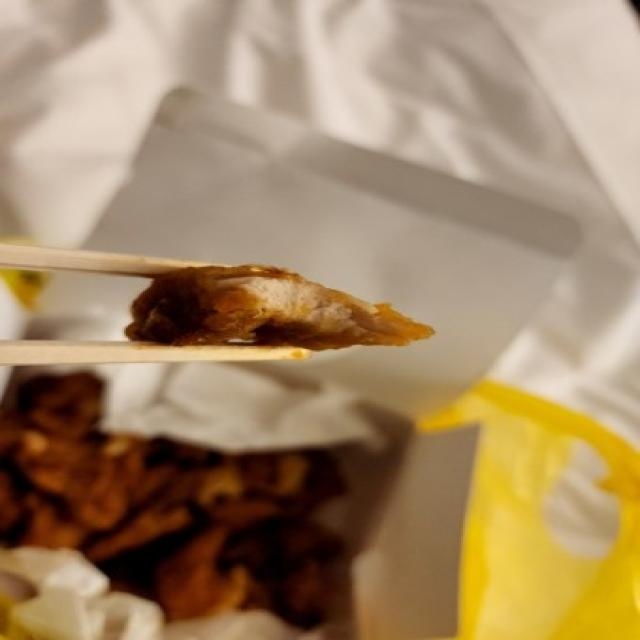Frango: (20, 362, 359, 640), (105, 258, 448, 359)
